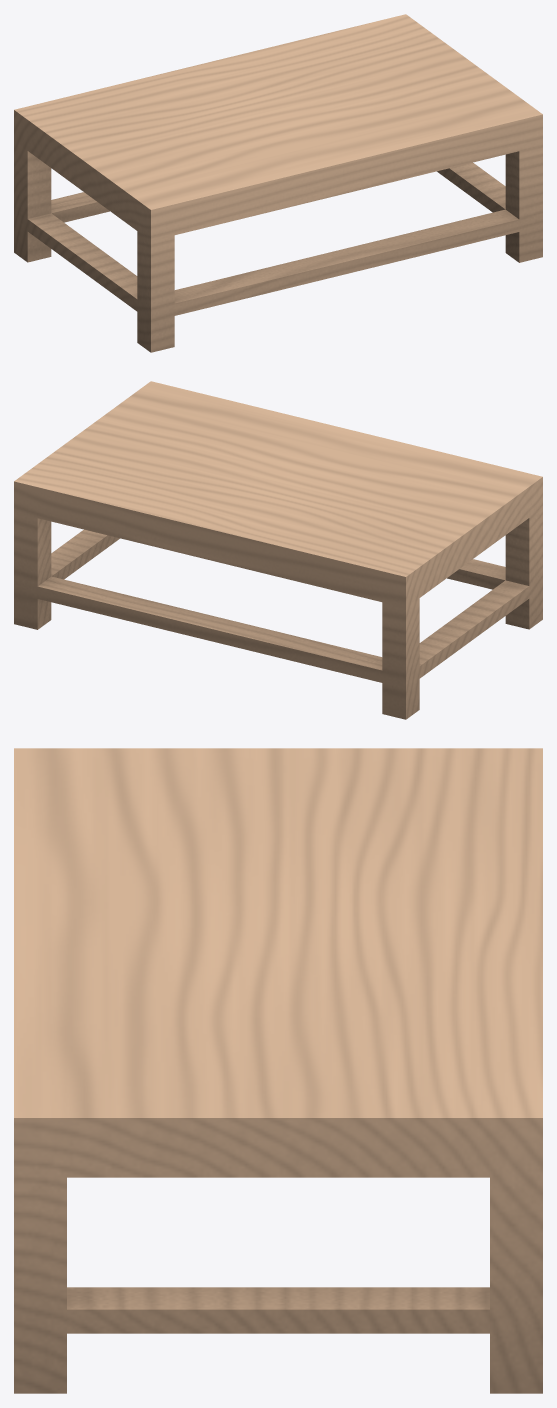
The model's file is coffee_table.glb.
3 views of the same model, one above another, from view 1: azimuth 30°, elevation 25°; view 2: azimuth 150°, elevation 25°; view 3: azimuth 270°, elevation 25° (orthographic). The views are drawn at different scales.
Parts seen in each view (by area): view 1: coffee_table; view 2: coffee_table; view 3: coffee_table.
Part boxes in pixels (x1,y1,x2,y2): coffee_table: (14, 14, 542, 352); coffee_table: (14, 381, 542, 719); coffee_table: (14, 748, 542, 1393).
Size of the model in its own units: 0.94 by 0.3271 by 0.5688.
1 material, 1 textured.
